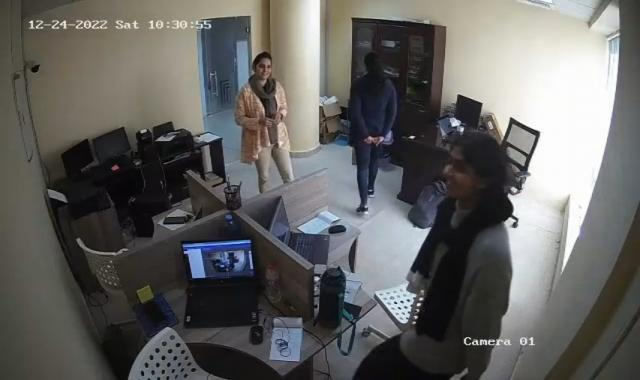no_hairnet: (440, 129, 505, 204), (360, 48, 387, 78), (251, 50, 273, 76)
